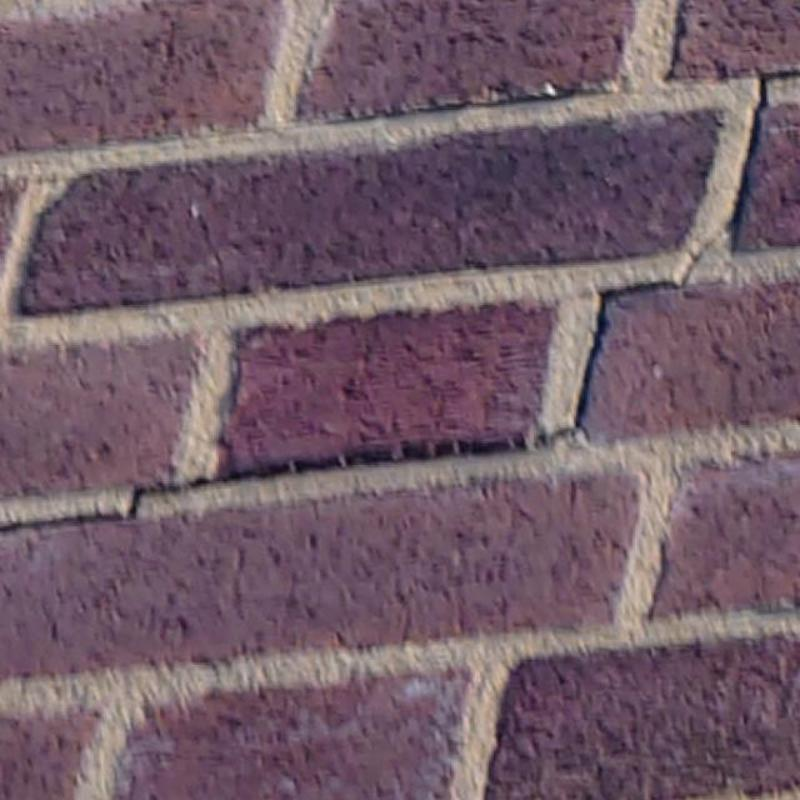crack: (1, 280, 675, 531), (729, 71, 799, 236), (679, 230, 726, 288)
